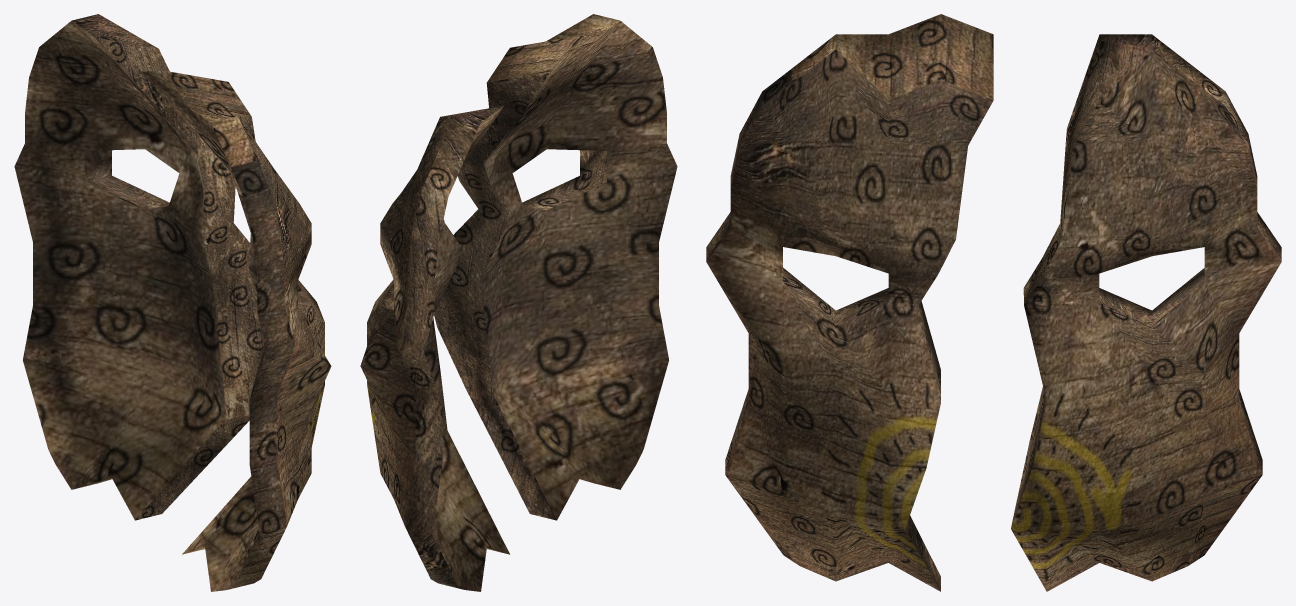
Rendered from BrokenWoodenMask.fbx.
3 views of the same model, side by side, from view 1: azimuth 30°, elevation 25°; view 2: azimuth 150°, elevation 25°; view 3: azimuth 270°, elevation 25° (orthographic). The views are drawn at different scales.
Visible parts, largest first — view 1: MaskLeft, MaskRight; view 2: MaskRight, MaskLeft; view 3: MaskRight, MaskLeft.
Boxes of the visible parts, x1,y1,x2,y2 form: MaskLeft: (14, 14, 262, 520); MaskRight: (141, 70, 331, 591); MaskRight: (434, 14, 677, 520); MaskLeft: (360, 105, 509, 591); MaskRight: (706, 14, 993, 591); MaskLeft: (1011, 34, 1281, 591).
Bounding box in the file's own units: 74.44 × 228 × 215.
1 material, 1 textured.
